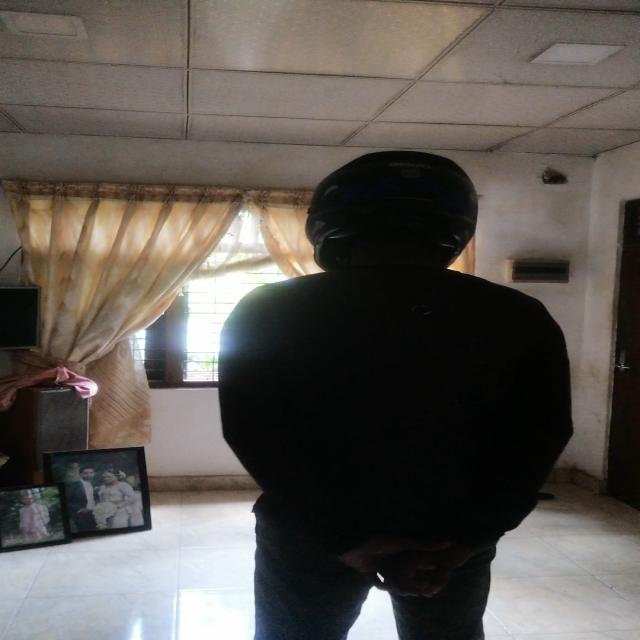Helmet_Wearer: (283, 151, 487, 275)
Person: (218, 141, 606, 640)
